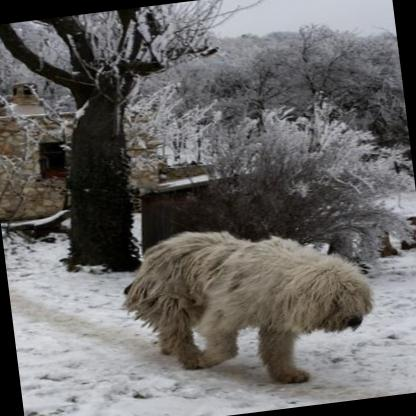komondor: (122, 202, 390, 402)
